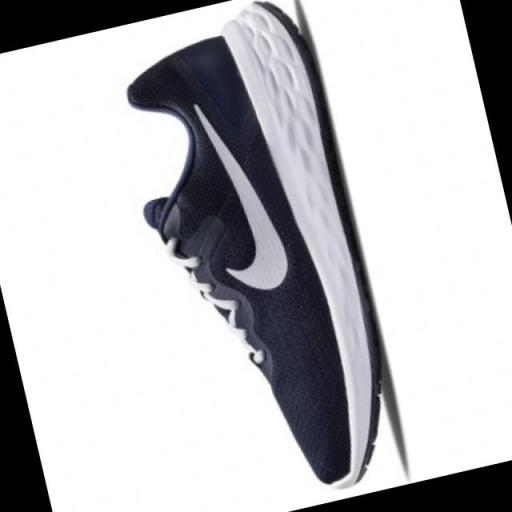Nike: (183, 74, 298, 311)
